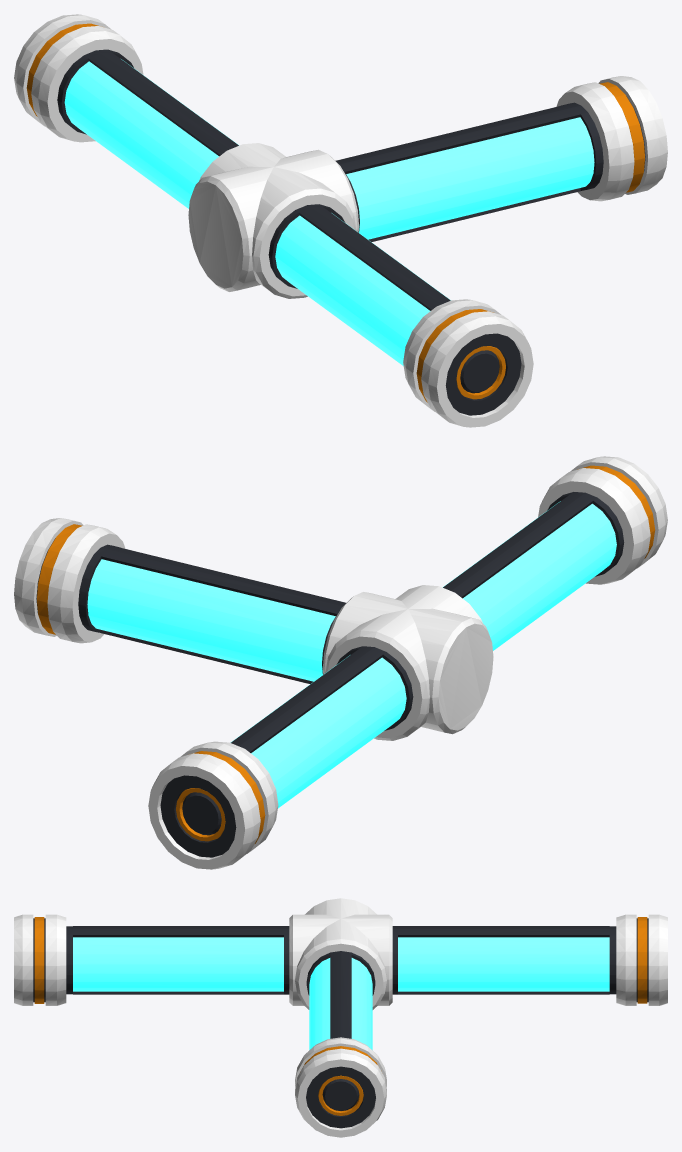
The model's file is SM_Cable_Small_T.fbx.
The picture shows the model from 3 angles, top to bottom: view 1: azimuth 30°, elevation 25°; view 2: azimuth 150°, elevation 25°; view 3: azimuth 270°, elevation 25°; orthographic projection. The views are drawn at different scales.
Visible parts, largest first — view 1: SM_Cable_Small_T; view 2: SM_Cable_Small_T; view 3: SM_Cable_Small_T.
Part boxes in pixels (x1,y1,x2,y2): SM_Cable_Small_T: (14,14,667,427); SM_Cable_Small_T: (14,456,667,869); SM_Cable_Small_T: (14,898,667,1137).
Bounding box in the file's own units: 57.89 × 14.09 × 99.96.
